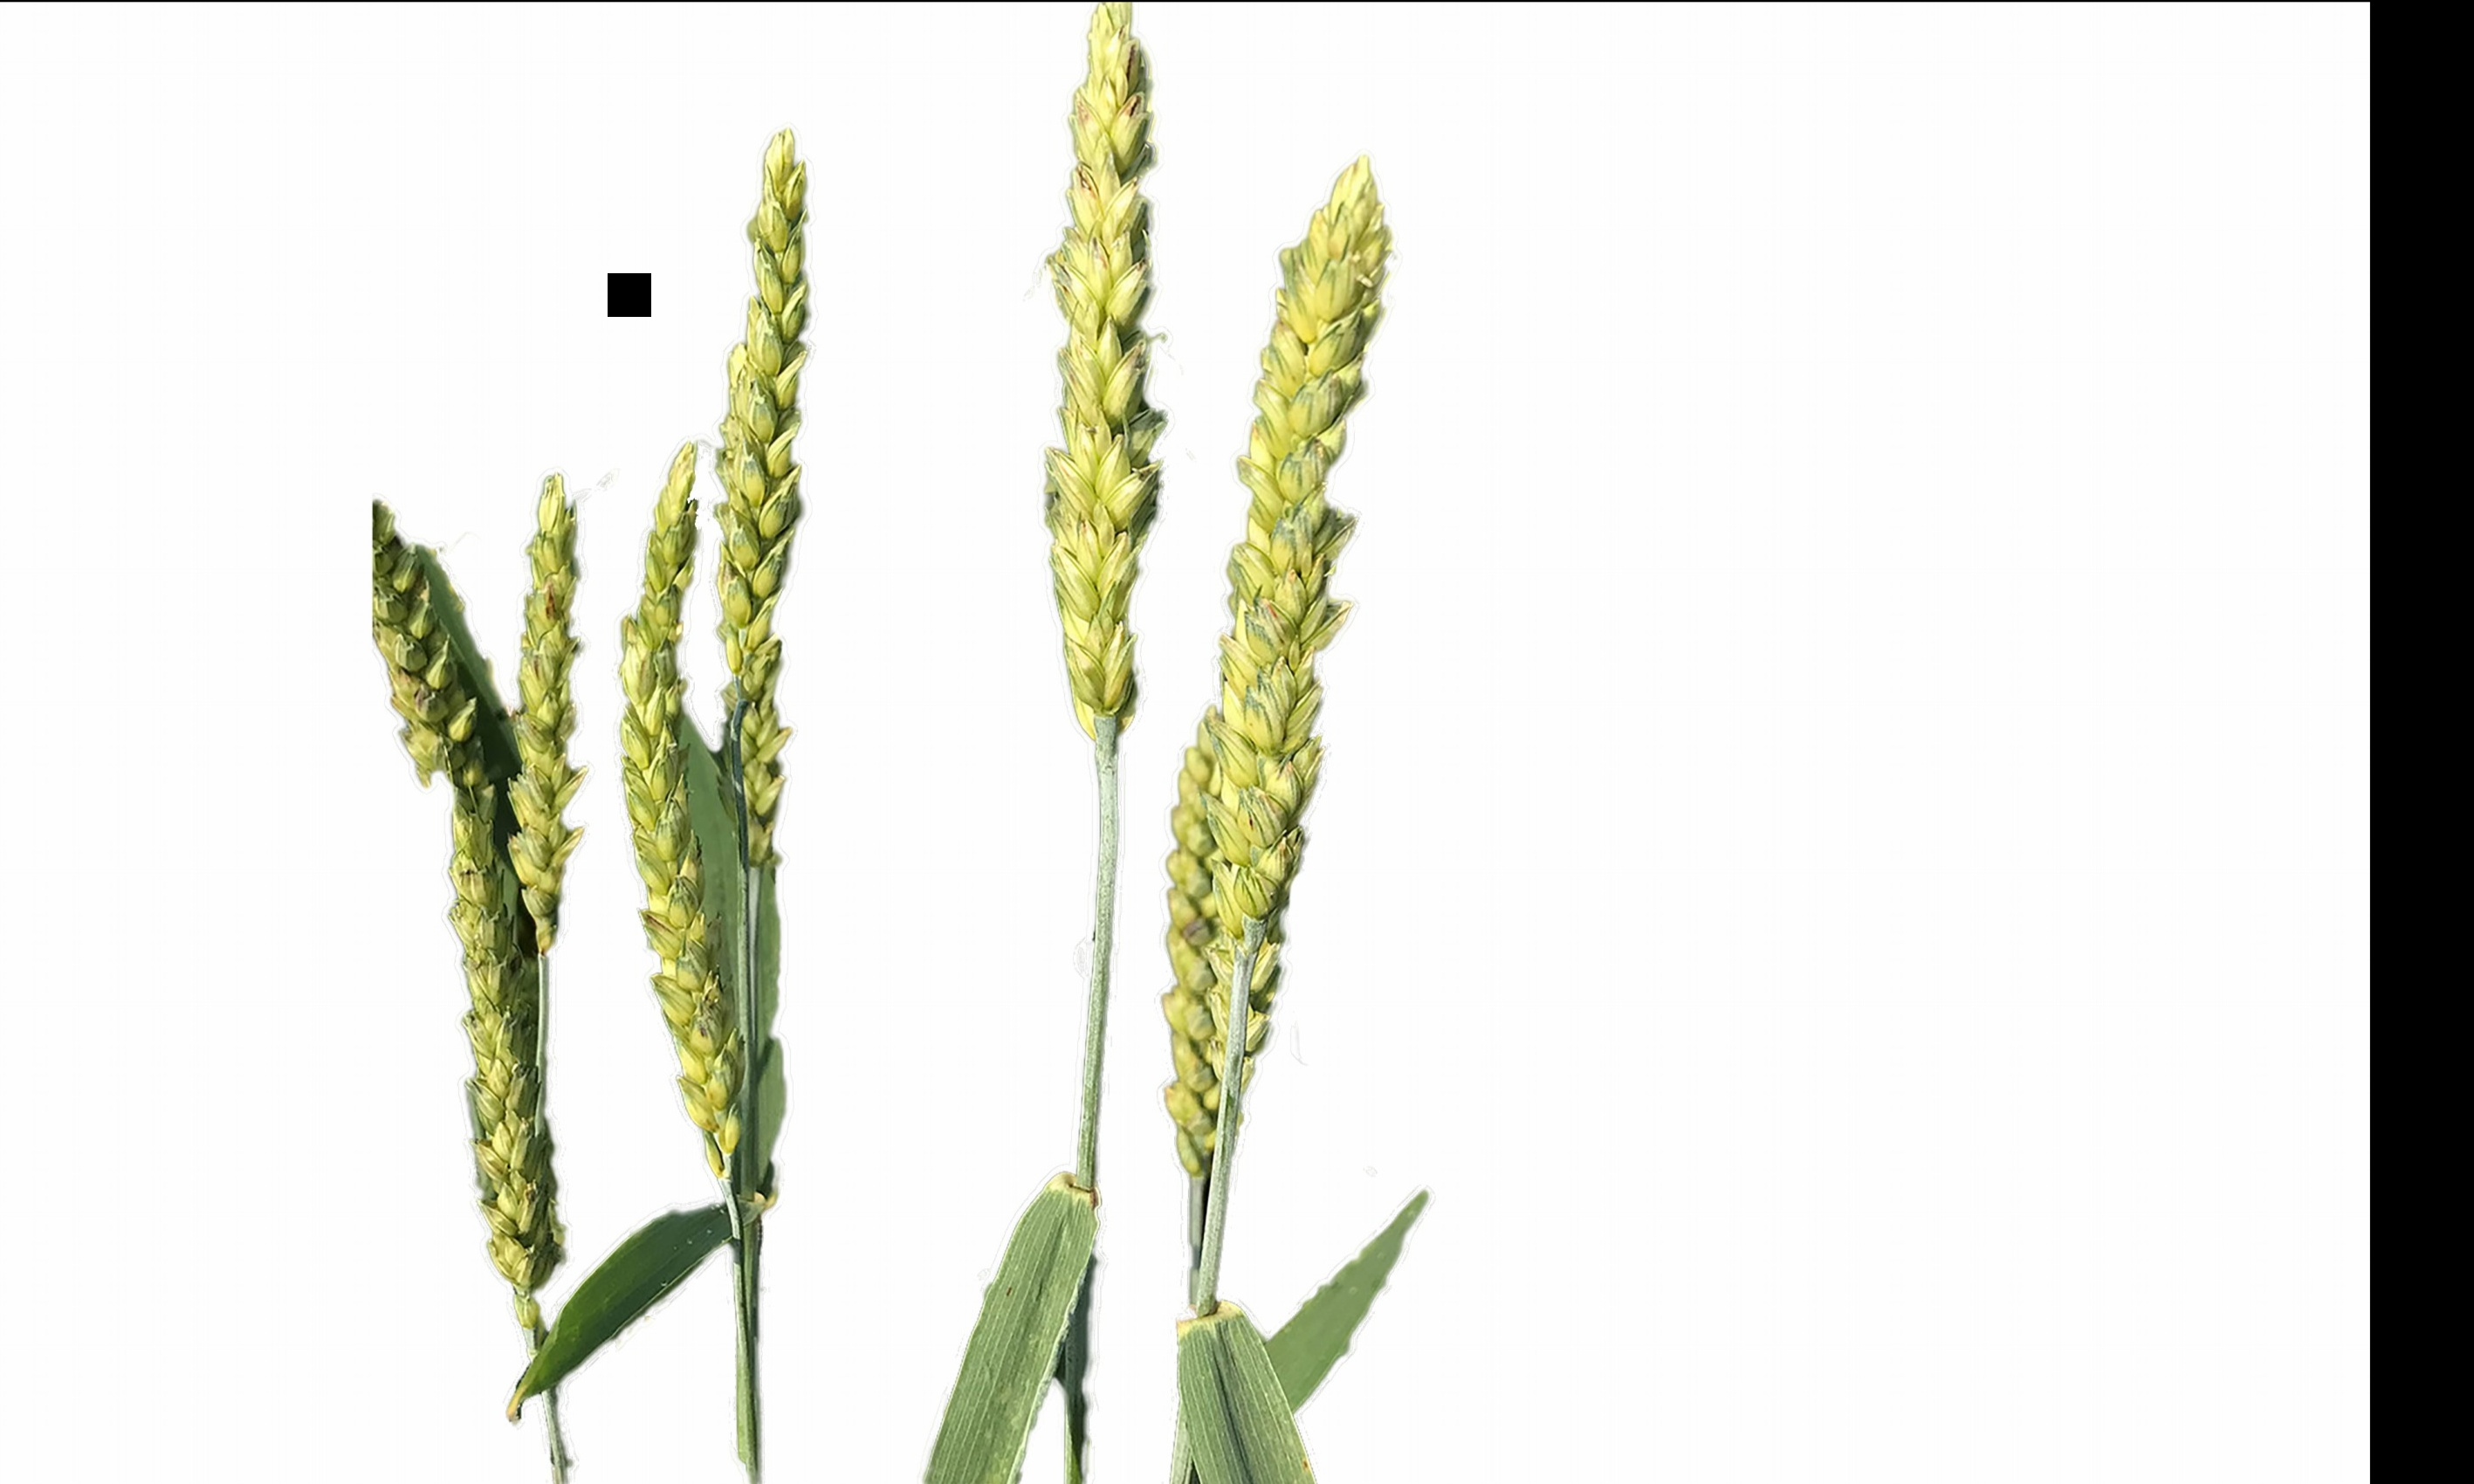wheat: (1153, 140, 1377, 1357), (613, 102, 830, 1284), (371, 436, 588, 1316), (980, 7, 1176, 922)
